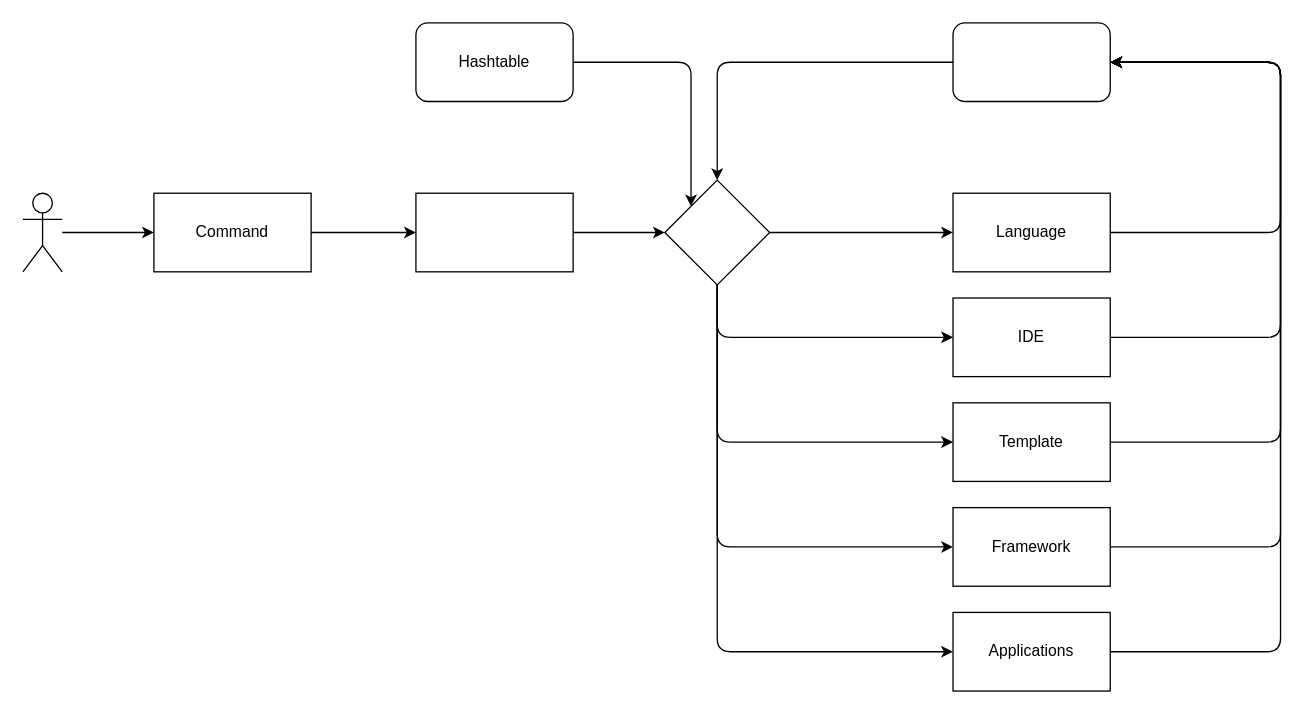
The diagram is 1314 pixels wide and 714 high, and some of its shapes have lost their labels. The shapes that lost their labels are listed below. From the top down, each one's centre as x and y in pixels, then its label:
[1031,62]: Back
[42,232]: User
[494,232]: Display embed with menu options
[717,232]: Select
